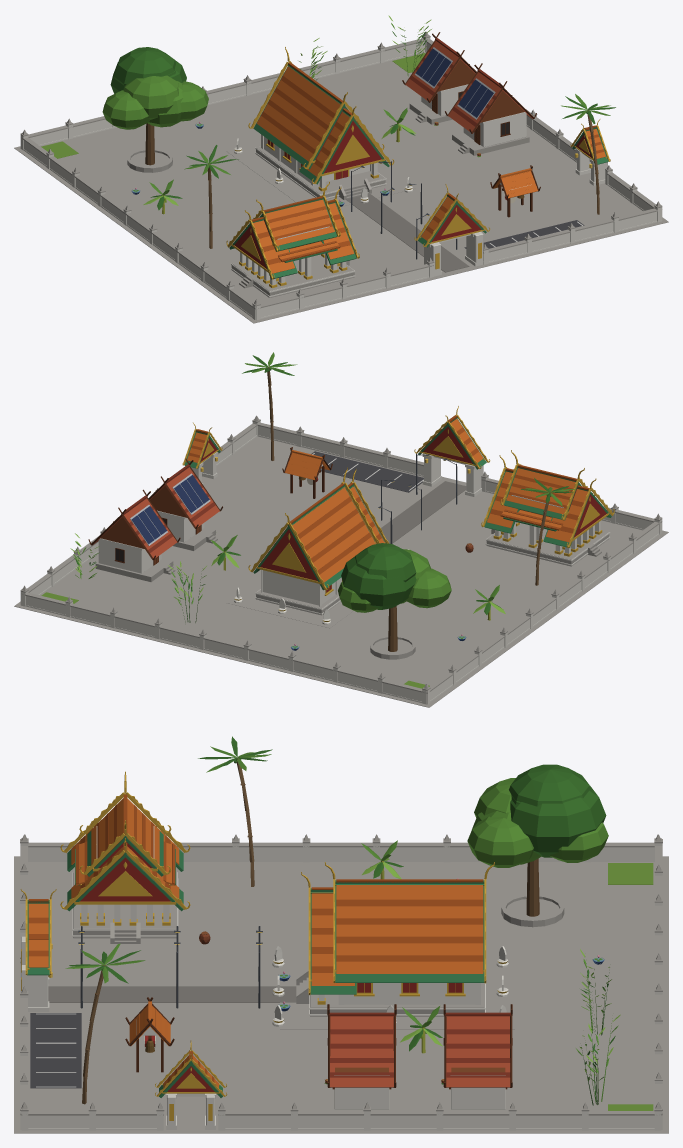
File: temple_1.glb
3 views of the same model, one above another, from view 1: azimuth 30°, elevation 25°; view 2: azimuth 150°, elevation 25°; view 3: azimuth 270°, elevation 25° (orthographic). The views are drawn at different scales.
Visible parts, largest first — view 1: body; view 2: body; view 3: body.
Boxes of the visible parts, box(x1,y1,x2,y2) form: body: box(14, 15, 668, 323); body: box(14, 352, 668, 707); body: box(14, 736, 668, 1133).
Size of the model in its own units: 47.9 by 12.13 by 47.9.
